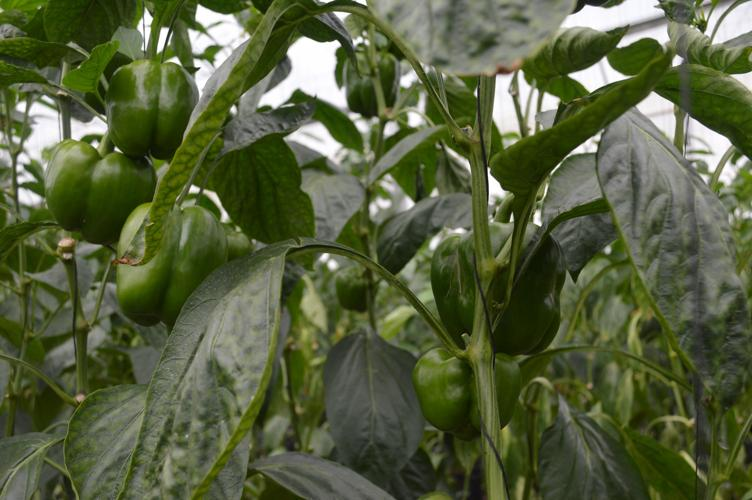BellPepper: (414, 225, 569, 348), (105, 202, 232, 312), (96, 60, 208, 157), (402, 348, 529, 431), (43, 143, 154, 235), (327, 44, 414, 125), (334, 264, 387, 321)
